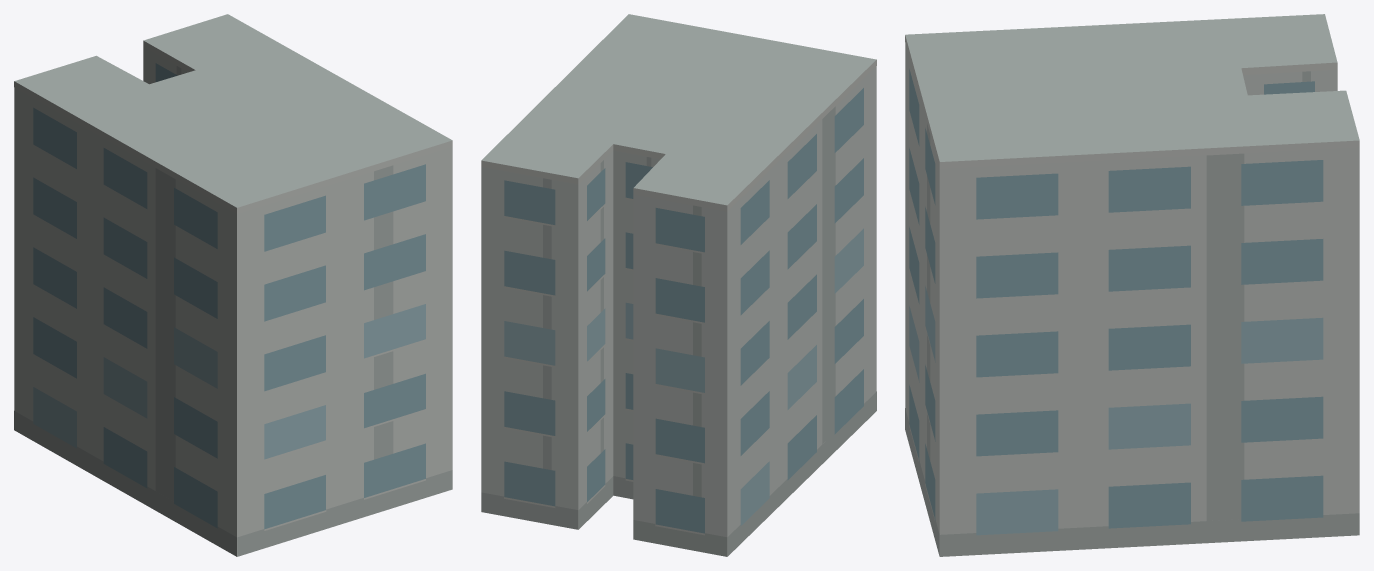
File: survey-upis-32892266.glb
3 renders of one model, left to right at view 1: azimuth 30°, elevation 25°; view 2: azimuth 150°, elevation 25°; view 3: azimuth 270°, elevation 25°, orthographic. The views are drawn at different scales.
Visible parts, largest first — view 1: survey-upis-32892266.tmp; view 2: survey-upis-32892266.tmp; view 3: survey-upis-32892266.tmp.
Boxes of the visible parts, x1,y1,x2,y2 form: survey-upis-32892266.tmp: [14, 14, 452, 556]; survey-upis-32892266.tmp: [481, 14, 876, 556]; survey-upis-32892266.tmp: [905, 14, 1359, 556].
Bounding box in the file's own units: 10.83 × 13.45 × 14.05.
